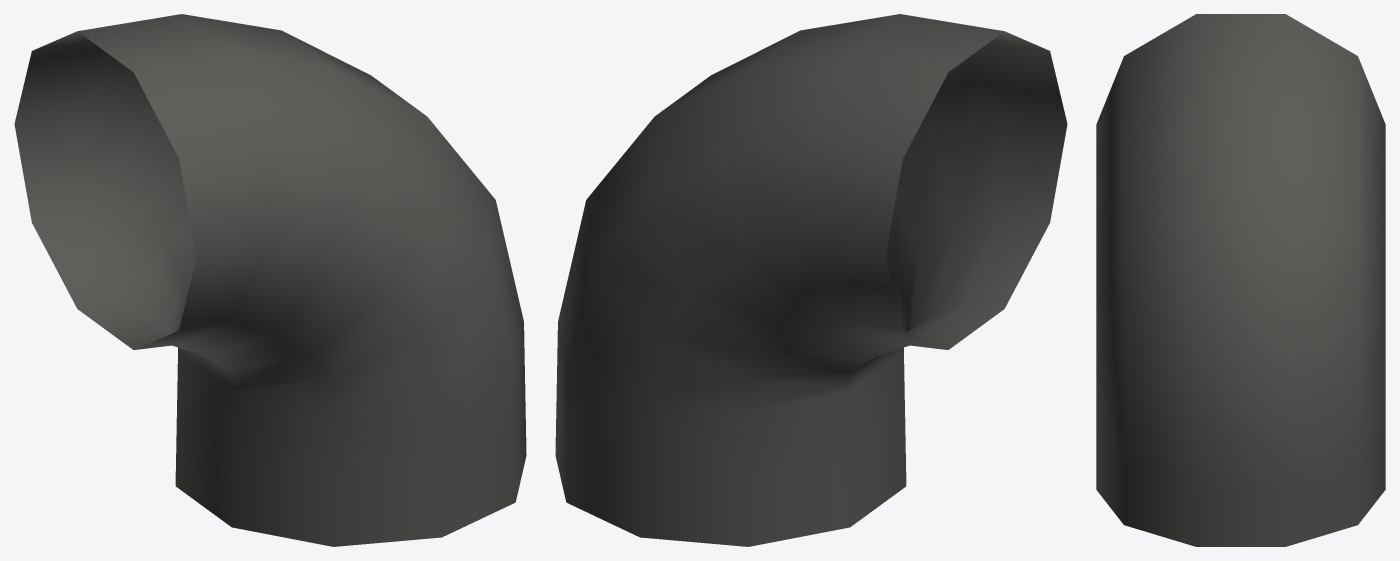
Rendered from SM_SmallTankPipeCurve.fbx.
3 renders of one model, left to right at view 1: azimuth 30°, elevation 25°; view 2: azimuth 150°, elevation 25°; view 3: azimuth 270°, elevation 25°, orthographic. The views are drawn at different scales.
Parts seen in each view (by area): view 1: SmallTankPipeCurve; view 2: SmallTankPipeCurve; view 3: SmallTankPipeCurve.
Part boxes in pixels (left/top/right/bottom): SmallTankPipeCurve: left=14, top=14, right=526, bottom=546; SmallTankPipeCurve: left=555, top=14, right=1067, bottom=546; SmallTankPipeCurve: left=1096, top=14, right=1385, bottom=546.
Size of the model in its own units: 33.46 by 38.98 by 26.84.
